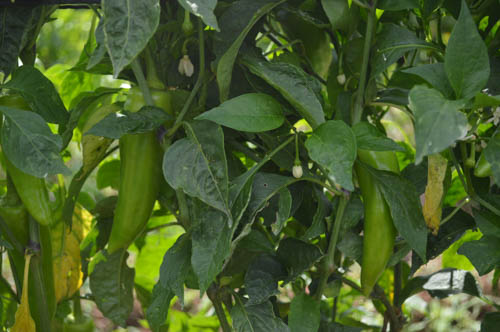ChiliPepper: (106, 86, 173, 265), (356, 140, 399, 301), (5, 208, 58, 316), (10, 167, 53, 225)
